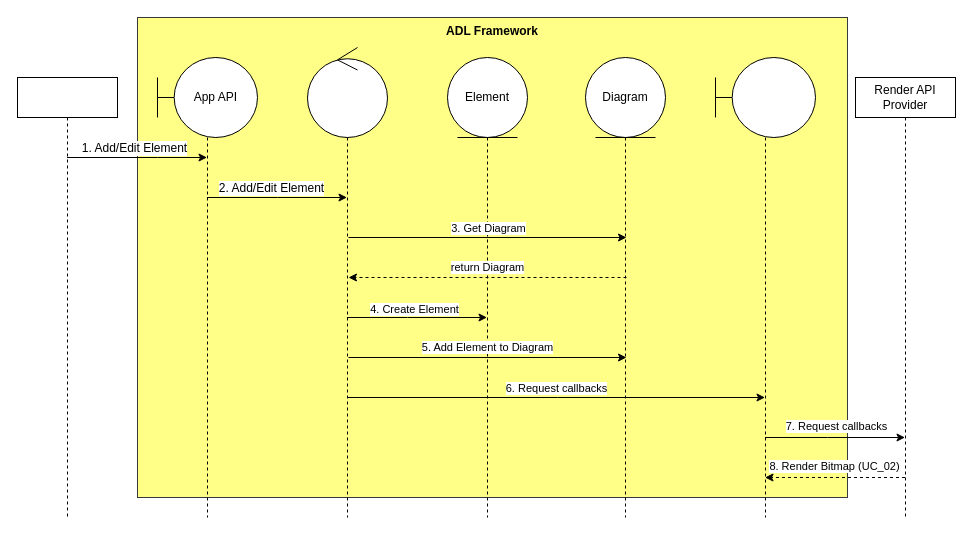
This 973x535 diagram has some shape labels left out. The shapes that lost their labels are listed below. From the top down, each one's box as (x1, y1, x2, y2) in pixels, then its label:
(16, 76, 118, 518): ADL Application
(306, 46, 388, 518): Element Controller
(714, 56, 816, 518): Render API
